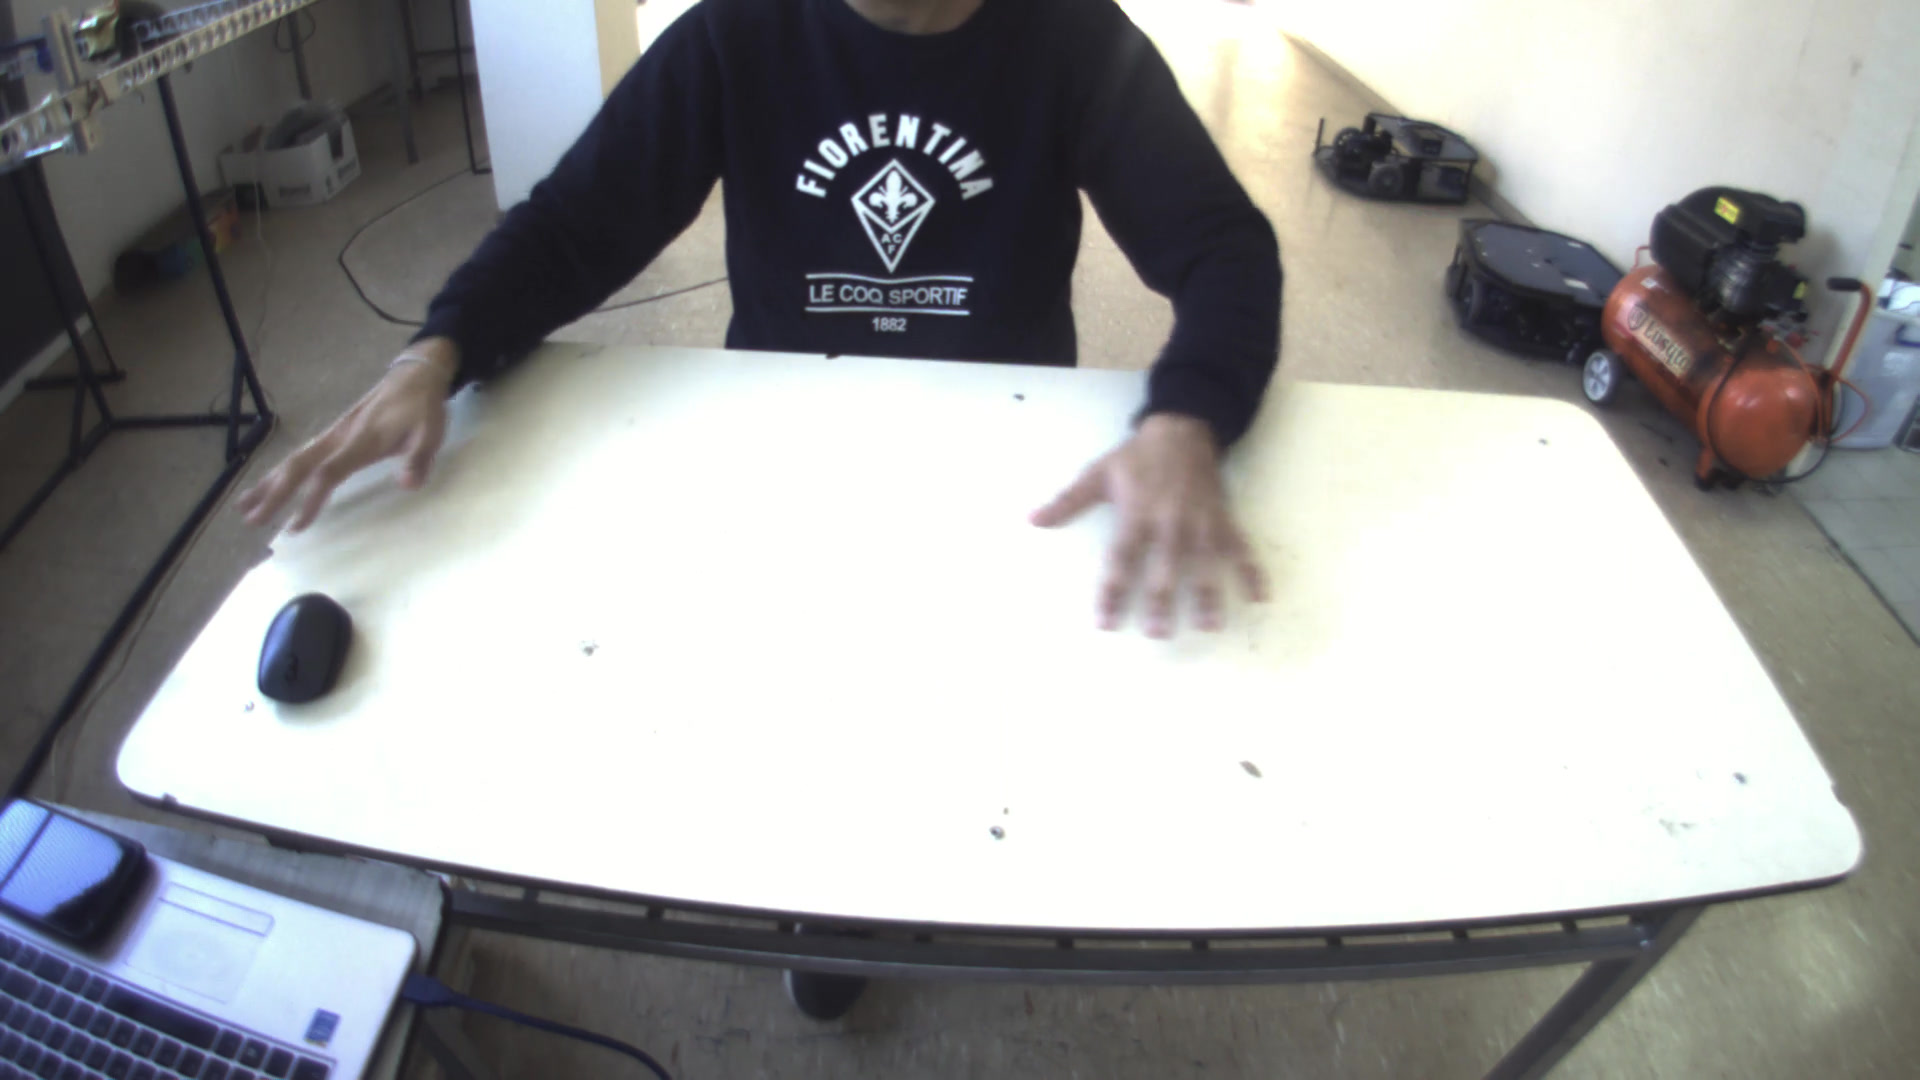hand: (1023, 404, 1288, 647), (223, 344, 455, 545)
